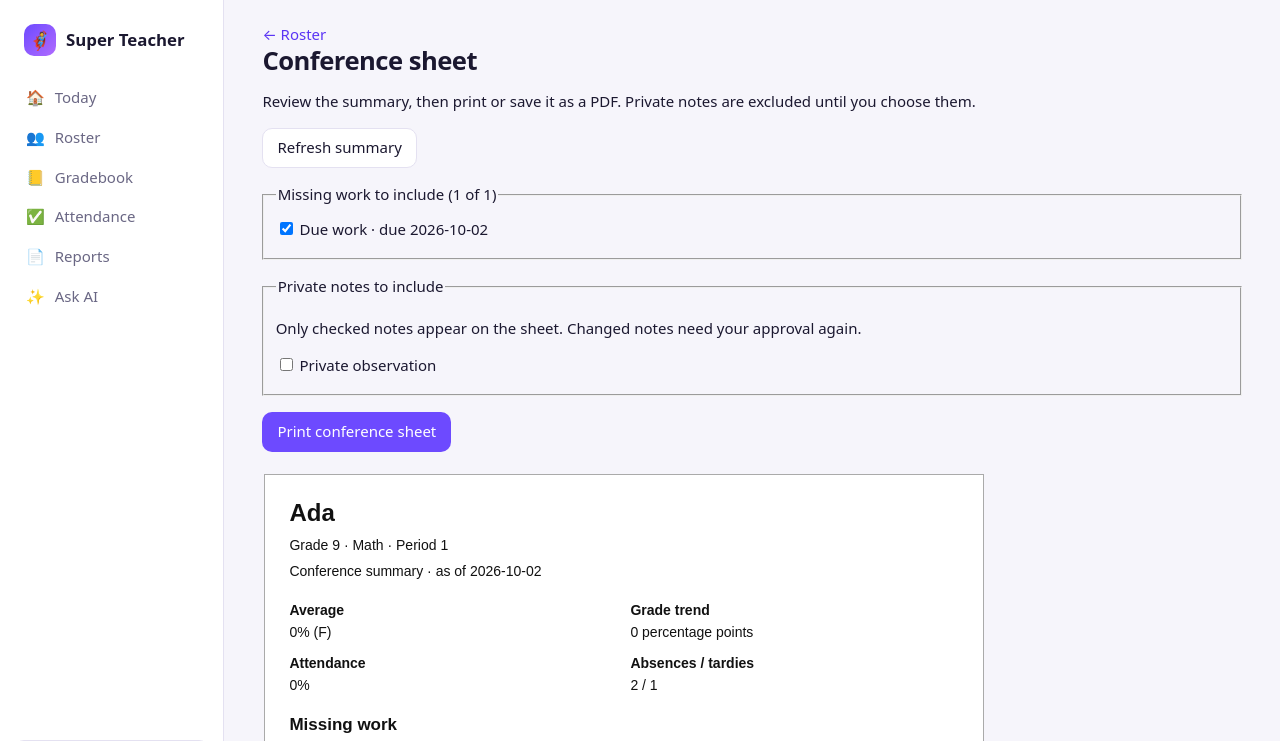
Scenario: passes the conference student context through the actual Shell to the assistant
The width and height of the screenshot is (1280, 741).
Check: the heading "Conference sheet" is shown, box x1=262 y1=43 x2=477 y2=78
Click the button "✨ Ask AI": (112, 297) x1=14 y1=277 x2=209 y2=317
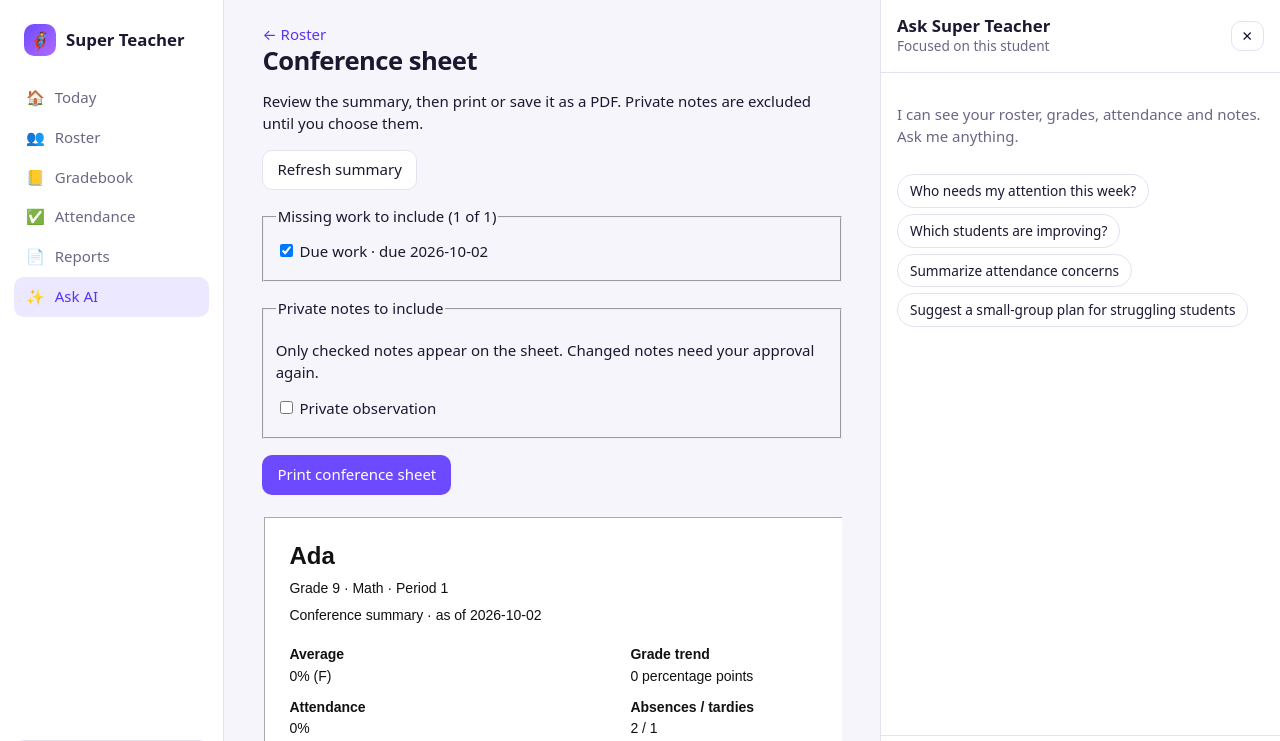
Check: the text "Focused on this student" is shown, box x1=897 y1=36 x2=1050 y2=56
